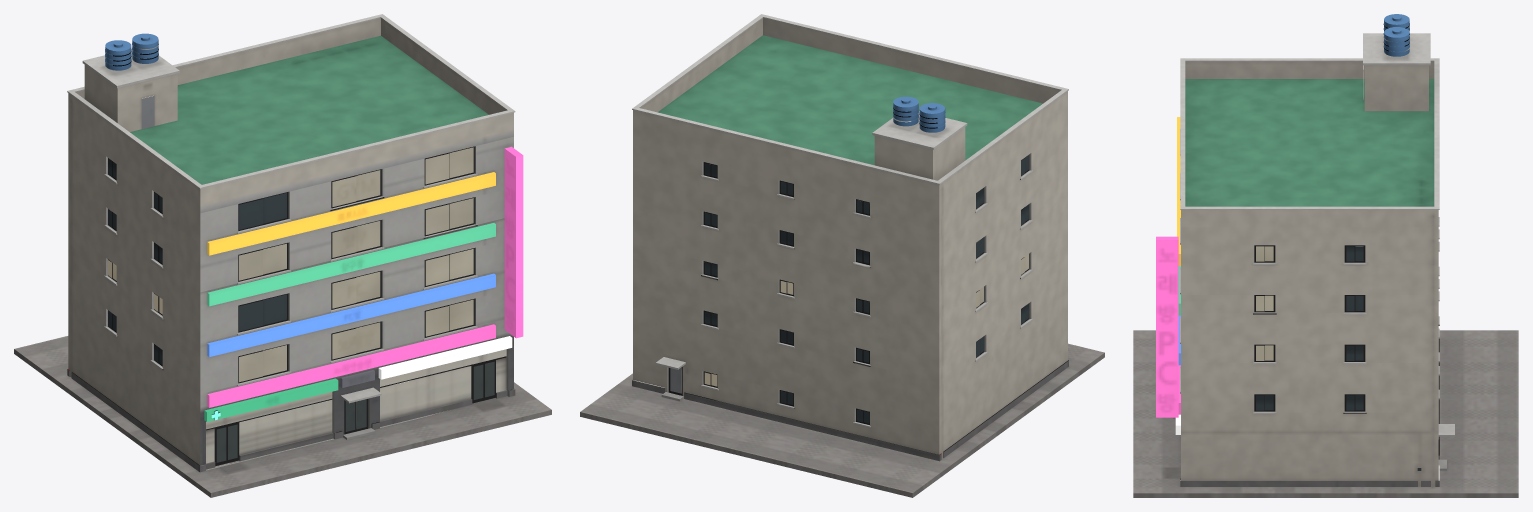
The model's file is IlsanMixed01_LOD2.fbx.
3 renders of one model, left to right at view 1: azimuth 30°, elevation 25°; view 2: azimuth 150°, elevation 25°; view 3: azimuth 270°, elevation 25°, orthographic. The views are drawn at different scales.
Parts seen in each view (by area): view 1: IlsanMixed01_LOD2; view 2: IlsanMixed01_LOD2; view 3: IlsanMixed01_LOD2.
Boxes of the visible parts, x1,y1,x2,y2 form: IlsanMixed01_LOD2: (14, 14, 551, 497); IlsanMixed01_LOD2: (580, 14, 1104, 497); IlsanMixed01_LOD2: (1133, 14, 1518, 497).
Bounding box in the file's own units: 23.9 × 23.15 × 23.9.
1 material, 1 textured.
